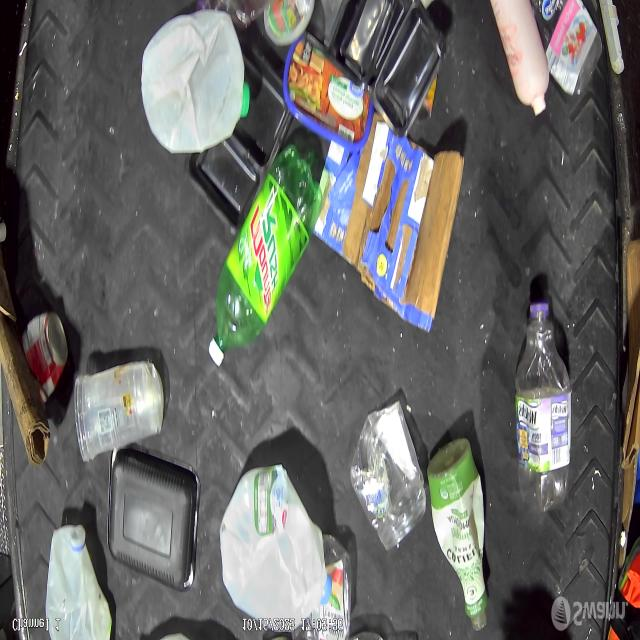can: (21, 308, 69, 406)
milk_jug: (219, 464, 327, 622), (140, 12, 249, 154), (43, 529, 101, 640)
plastic_bottle: (210, 148, 322, 372), (508, 282, 572, 515), (349, 403, 426, 554), (74, 356, 164, 468)
